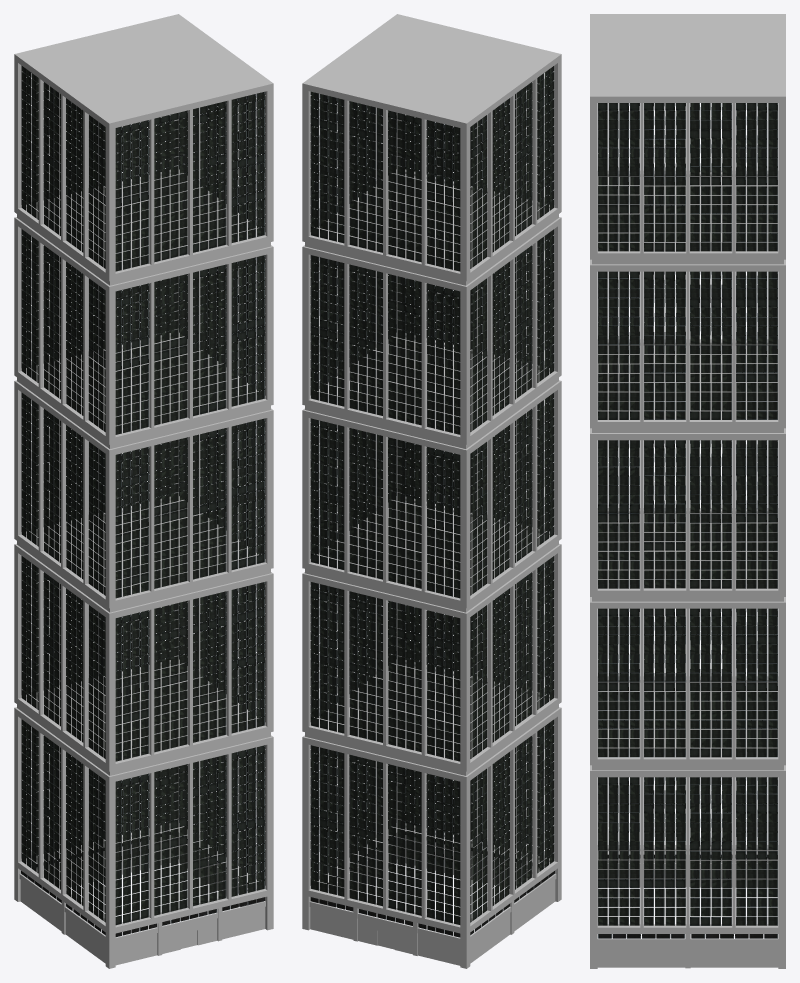
File: Office-13.fbx
3 views of the same model, side by side, from view 1: azimuth 30°, elevation 25°; view 2: azimuth 150°, elevation 25°; view 3: azimuth 270°, elevation 25° (orthographic). The views are drawn at different scales.
Visible parts, largest first — view 1: Building; view 2: Building; view 3: Building.
Boxes of the visible parts, x1,y1,x2,y2 form: Building: [14, 14, 273, 968]; Building: [302, 14, 561, 968]; Building: [590, 14, 785, 968].
Size of what is drawn, in the model's own units: 28.32 by 139 by 28.32.
